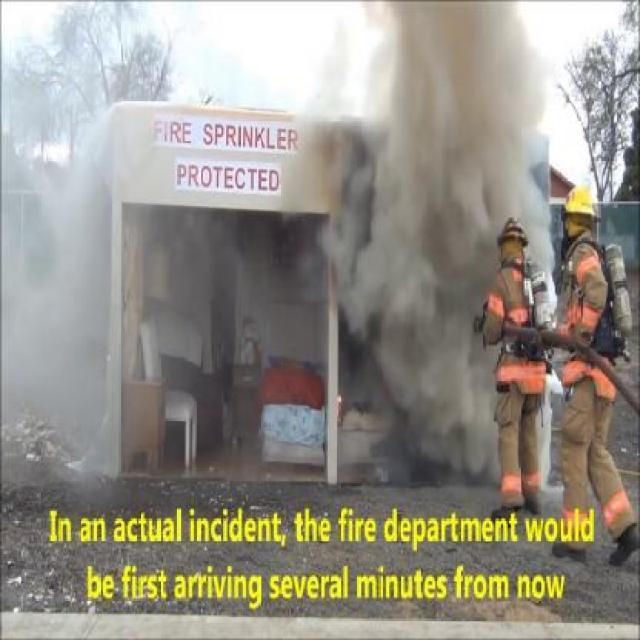smoke: (340, 25, 545, 492), (50, 120, 239, 453)
